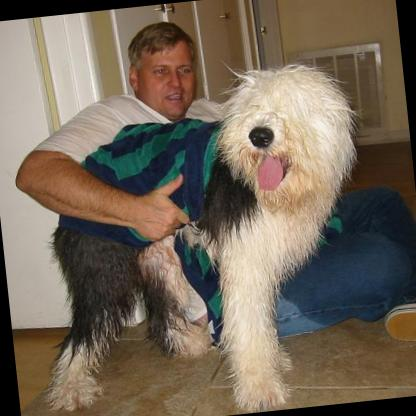Old_English_sheepdog: (12, 50, 387, 416)
